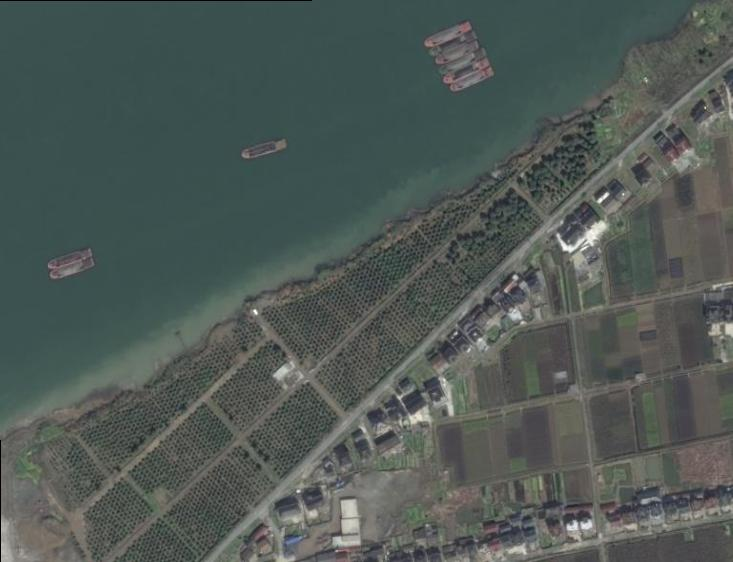ship: (439, 47, 487, 76), (443, 57, 490, 86), (424, 21, 473, 48), (430, 30, 477, 57), (435, 39, 481, 66), (48, 257, 95, 281), (450, 67, 495, 92), (46, 248, 93, 270), (242, 140, 288, 160)
